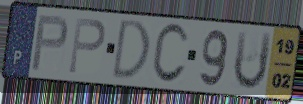9: (198, 27, 230, 89)
C: (149, 21, 191, 86)
D: (109, 17, 152, 82)
P: (66, 15, 107, 76), (29, 14, 70, 74)
U: (231, 29, 274, 93)
